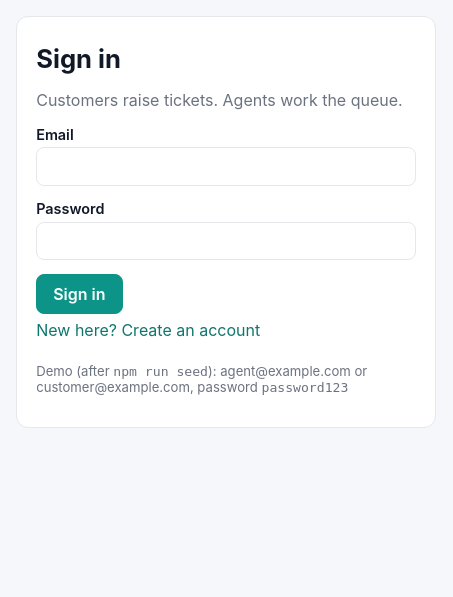
Test: LoginPage › switches to registration and shows field errors
Step 1. Click the button "New here? Create an account" → (148, 330), box 36,314 -> 260,347
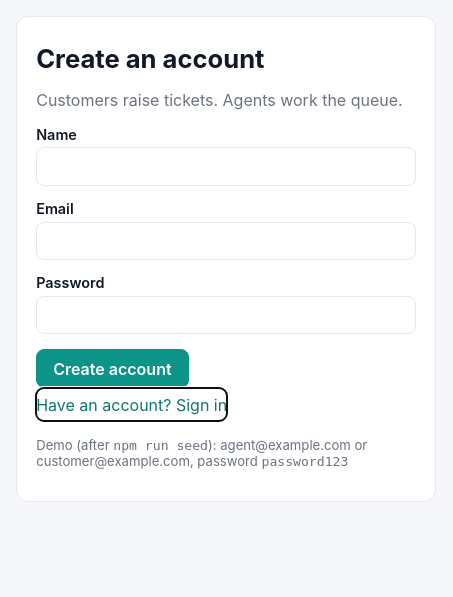
Expected: the field labelled "Name" is shown, 36,147 -> 416,186
Step 2. Click the button "Create account" → (112, 368), box 36,349 -> 189,388
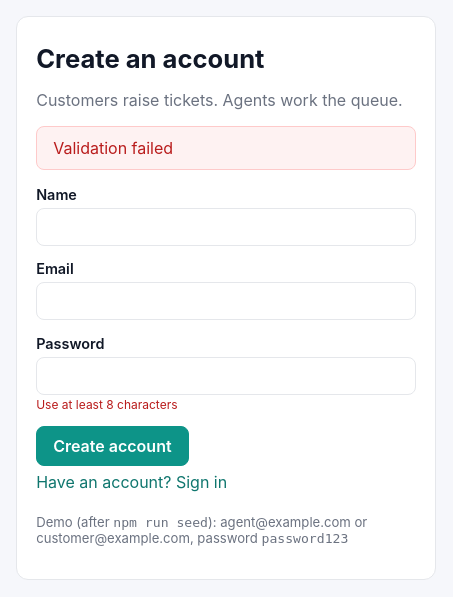
Result: the text "Use at least 8 characters" is shown at 36,397 -> 178,412
